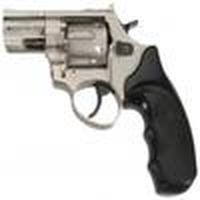gun: (2, 6, 199, 199)
